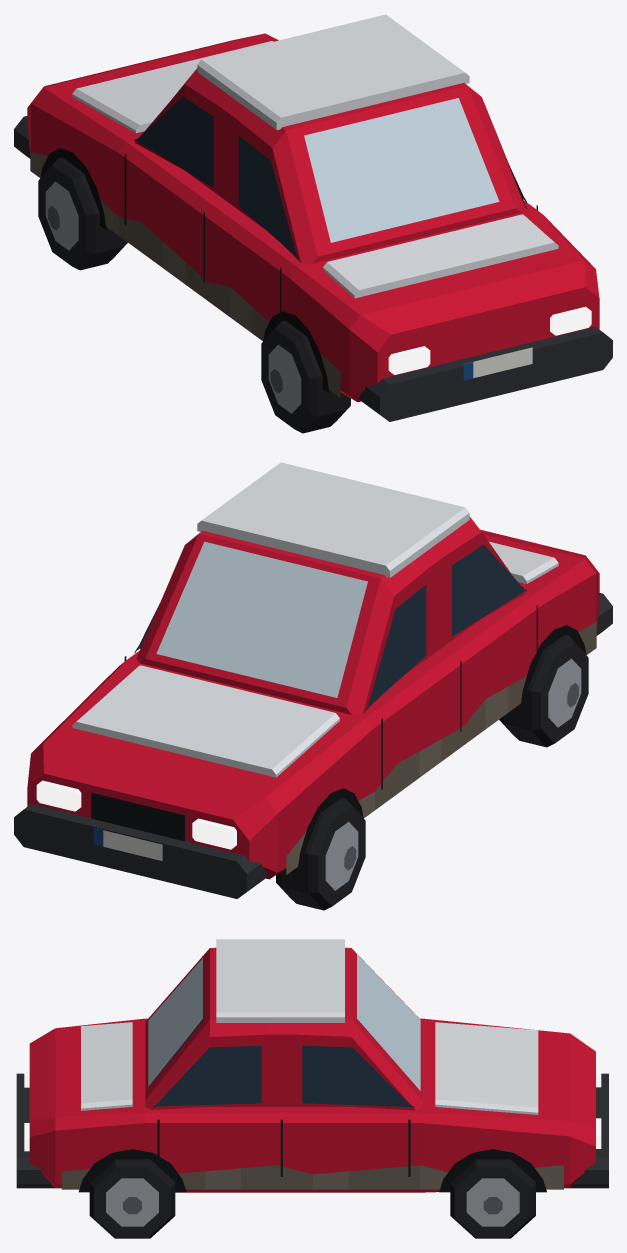
Rendered from sedan_lo.glb.
The picture shows the model from 3 angles, top to bottom: view 1: azimuth 30°, elevation 25°; view 2: azimuth 150°, elevation 25°; view 3: azimuth 270°, elevation 25°; orthographic projection. The views are drawn at different scales.
Parts seen in each view (by area): view 1: body.001, wheel_RL.001, wheel_FL.001; view 2: body.001, wheel_FL.001, wheel_RL.001; view 3: body.001, wheel_RR.001, wheel_FR.001.
Boxes of the visible parts, box(x1,y1,x2,y2) form: body.001: box(14, 14, 612, 421); wheel_RL.001: box(261, 320, 350, 433); wheel_FL.001: box(38, 157, 127, 270); body.001: box(14, 462, 612, 898); wheel_FL.001: box(276, 797, 365, 910); wheel_RL.001: box(499, 634, 588, 747); body.001: box(16, 939, 608, 1192); wheel_RR.001: box(89, 1159, 175, 1238); wheel_FR.001: box(450, 1159, 535, 1238).
Bounding box in the file's own units: 2.15 × 1.8 × 4.65.
